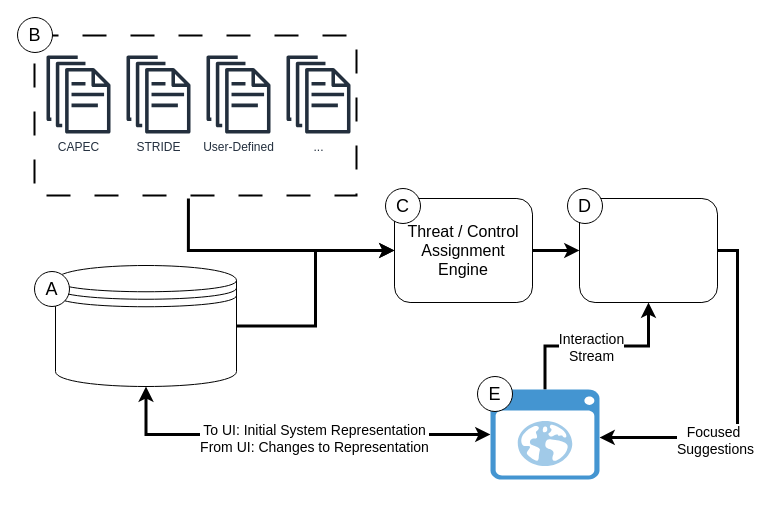
Image size: 772x521. Some labels were removed from this diagram. The shapes that lost their labels are listed below. From the top down, each one's box as (x1, y1, x2, y2) in pixels, then its label:
(33, 34, 357, 196): Knowledge Base
(578, 198, 718, 302): Natural Suggestions Engine
(54, 264, 236, 386): System Representation & Threat Model Object in TMNT DSL
(490, 389, 599, 479): TMNT User Interface
